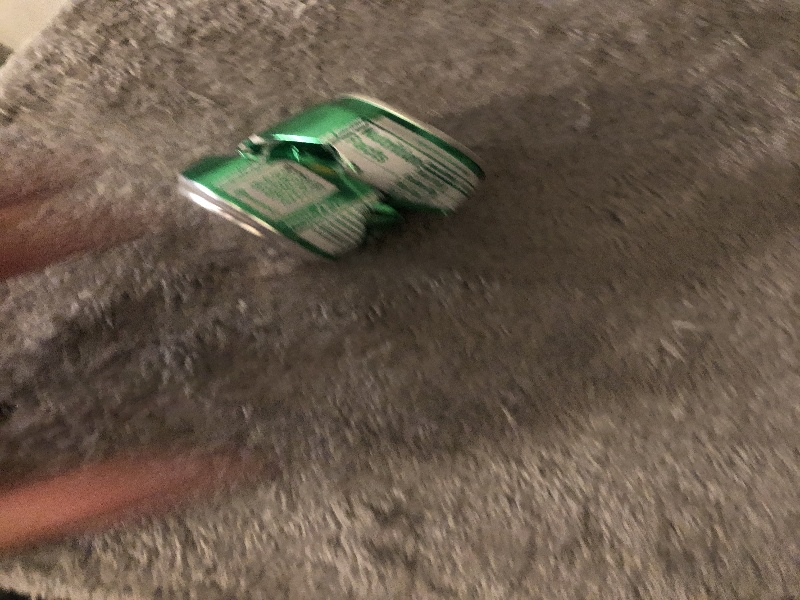metal: (168, 91, 490, 266)
